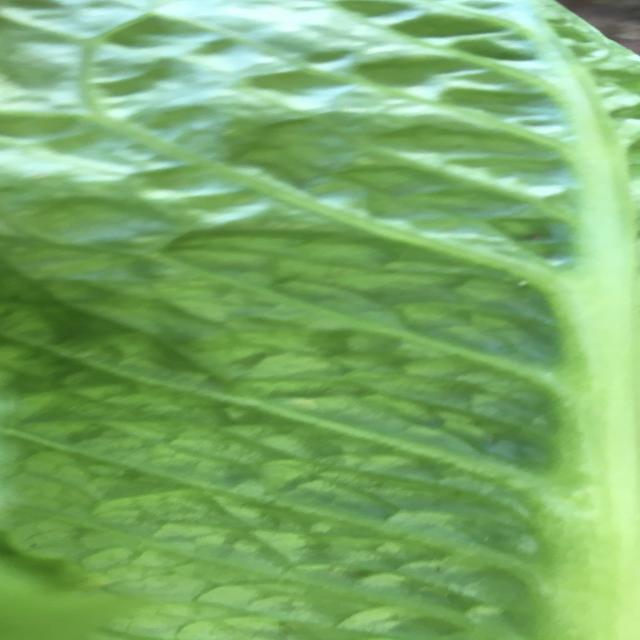Healthy Lettuce: (8, 2, 632, 636)
